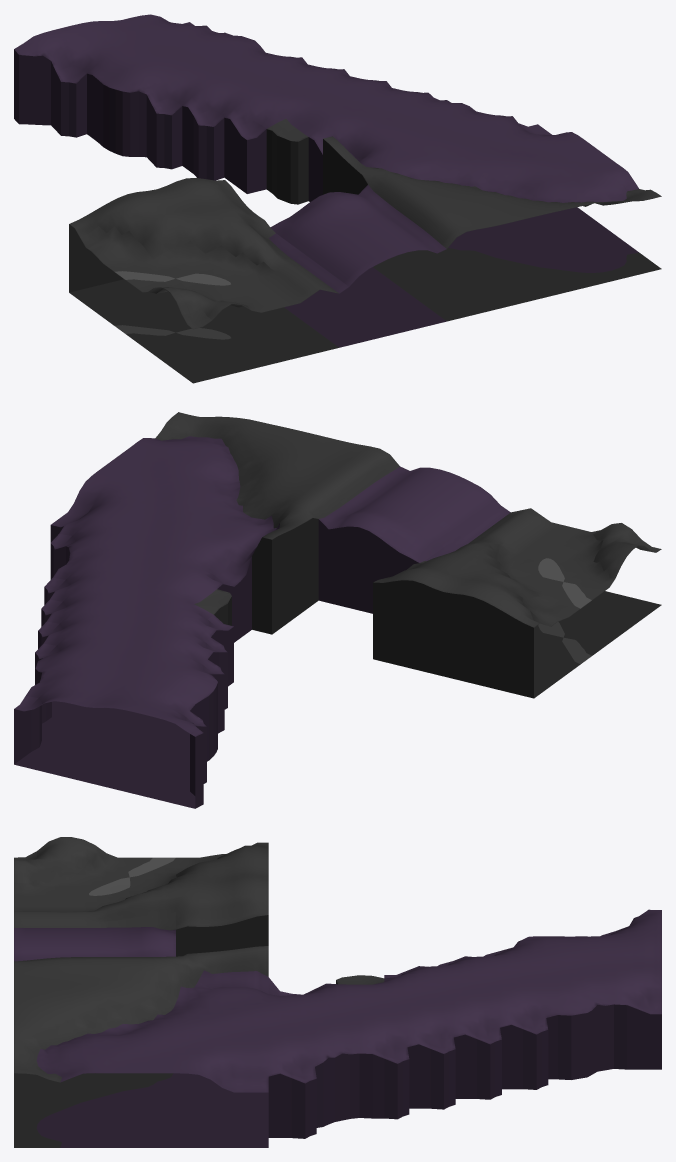
File: delbld-hull-301.glb
3 views of the same model, one above another, from view 1: azimuth 30°, elevation 25°; view 2: azimuth 150°, elevation 25°; view 3: azimuth 270°, elevation 25° (orthographic). The views are drawn at different scales.
Parts seen in each view (by area): view 1: delbld-hull-301; view 2: delbld-hull-301; view 3: delbld-hull-301.
Part boxes in pixels (x1=…): delbld-hull-301: x1=14, y1=14, x2=661, y2=383; delbld-hull-301: x1=14, y1=412, x2=661, y2=808; delbld-hull-301: x1=14, y1=837, x2=661, y2=1147.
Size of the model in its own units: 2 by 0.375 by 2.33.
Materials: 3 (3 with a texture image).
